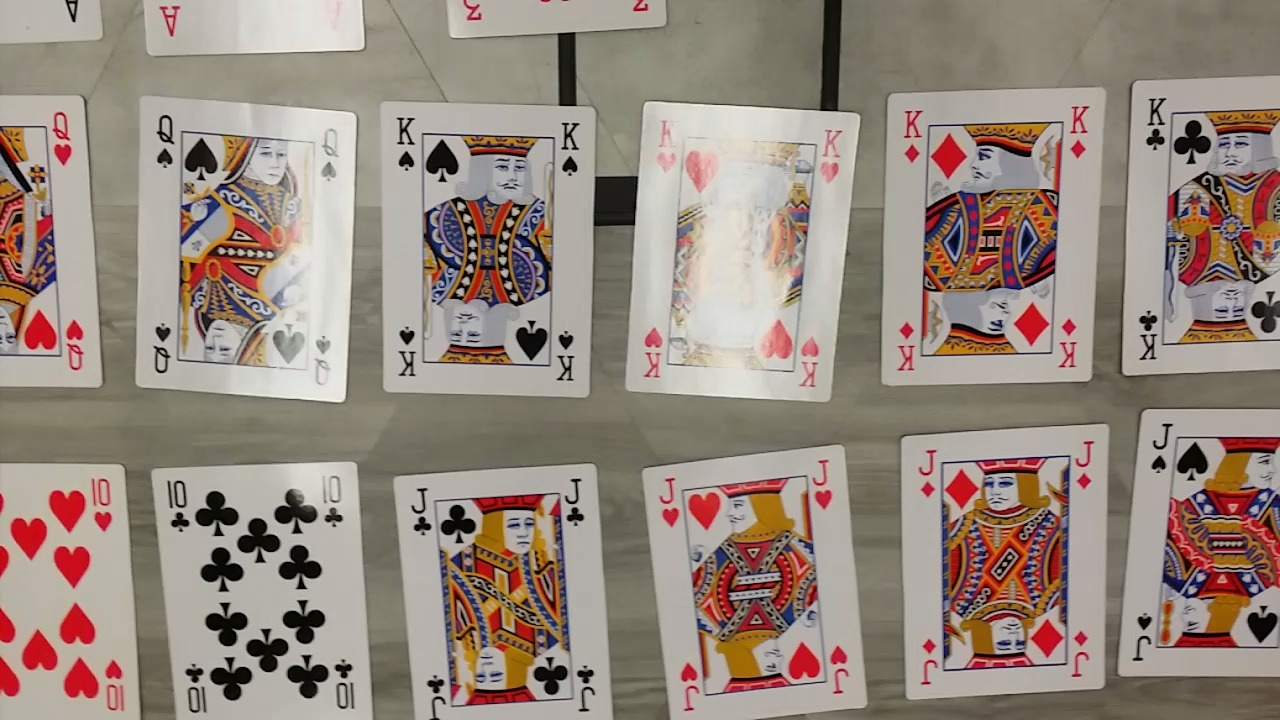10_club: (149, 458, 377, 720)
10_diamond: (899, 419, 1111, 705)
10_heart: (0, 460, 137, 720)
jack_club: (390, 454, 616, 720)
jack_heart: (639, 442, 870, 720)
jack_spade: (1115, 408, 1280, 679)
king_club: (840, 57, 1066, 367)
king_diamond: (838, 57, 1066, 367)
king_heart: (614, 85, 855, 401)
king_spade: (378, 97, 607, 408)
queen_heart: (0, 95, 103, 391)
queen_spade: (132, 92, 358, 401)
